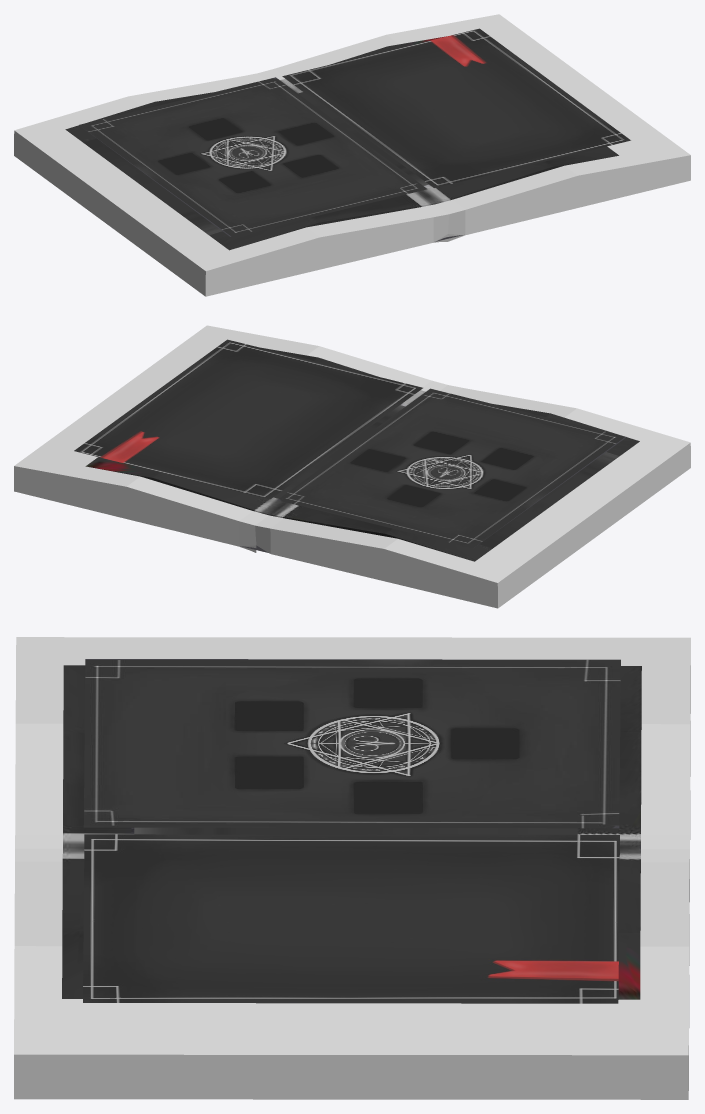
The model's file is livroskills.fbx.
The picture shows the model from 3 angles, top to bottom: view 1: azimuth 30°, elevation 25°; view 2: azimuth 150°, elevation 25°; view 3: azimuth 270°, elevation 25°; orthographic projection. The views are drawn at different scales.
Parts seen in each view (by area): view 1: LivroPerks; view 2: LivroPerks; view 3: LivroPerks.
Boxes of the visible parts, left/top/right/bottom form: LivroPerks: left=14, top=14, right=690, bottom=296; LivroPerks: left=14, top=325, right=690, bottom=608; LivroPerks: left=14, top=637, right=690, bottom=1099.
Size of the model in its own units: 908 by 75.31 by 625.
